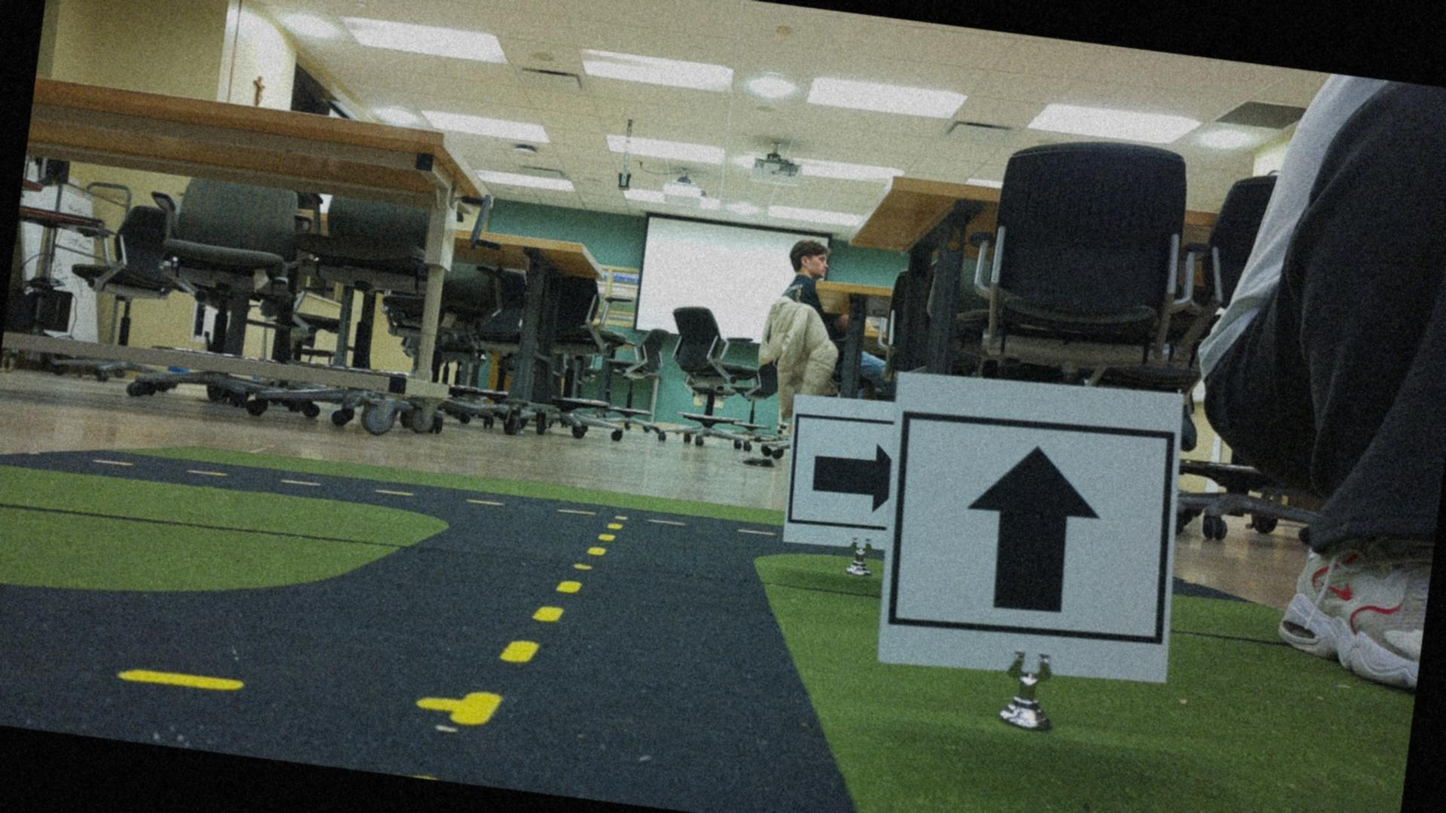gostraight: (886, 372, 1192, 689)
turnleft: (776, 417, 893, 540)
yellowline: (456, 495, 626, 741)
